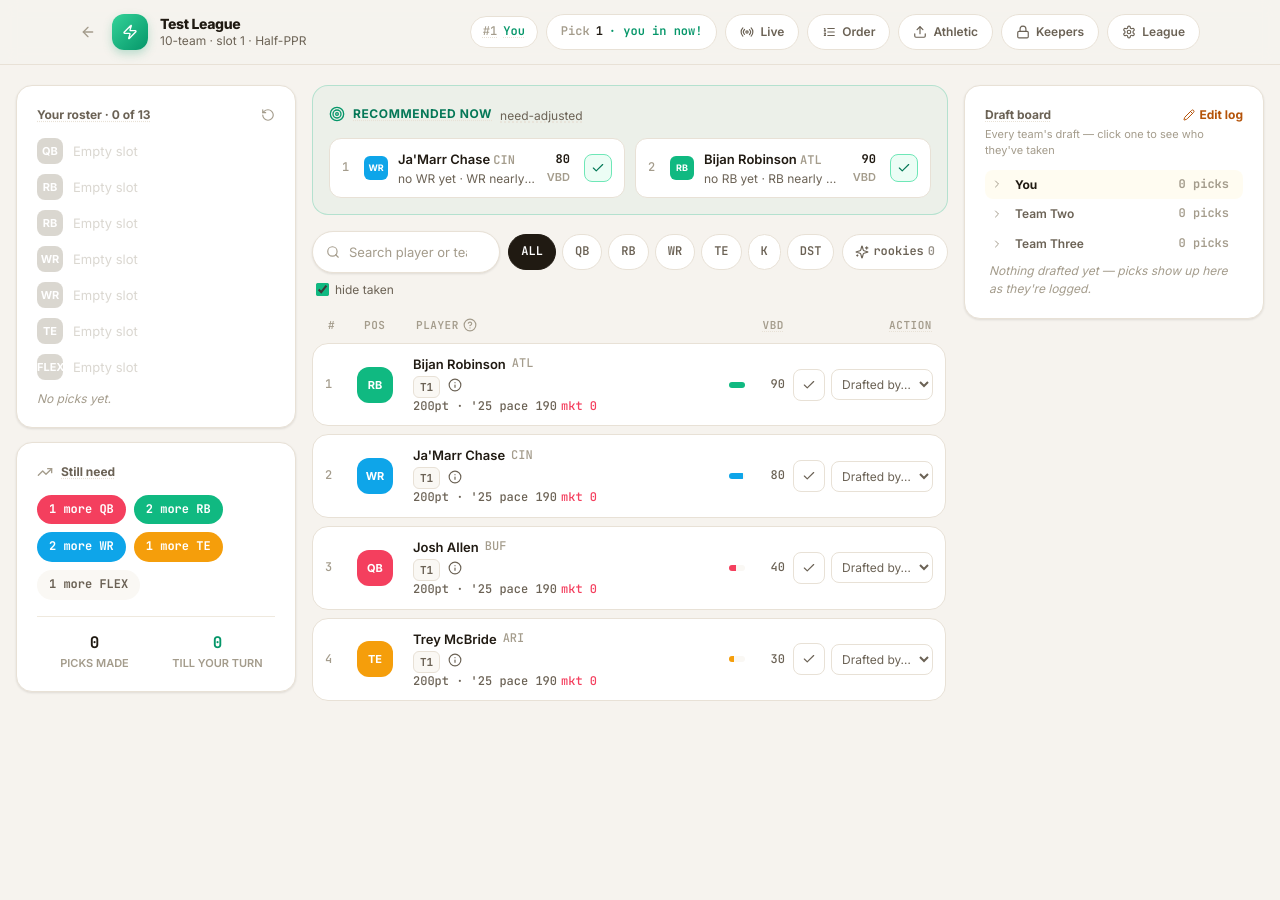
Test: SnakeRoom player board › marks the player as mine, not merely taken, once 'hide taken' is off
Click the checkbox labelled "hide taken".
click(322, 290)  # box x1=316 y1=284 x2=329 y2=296
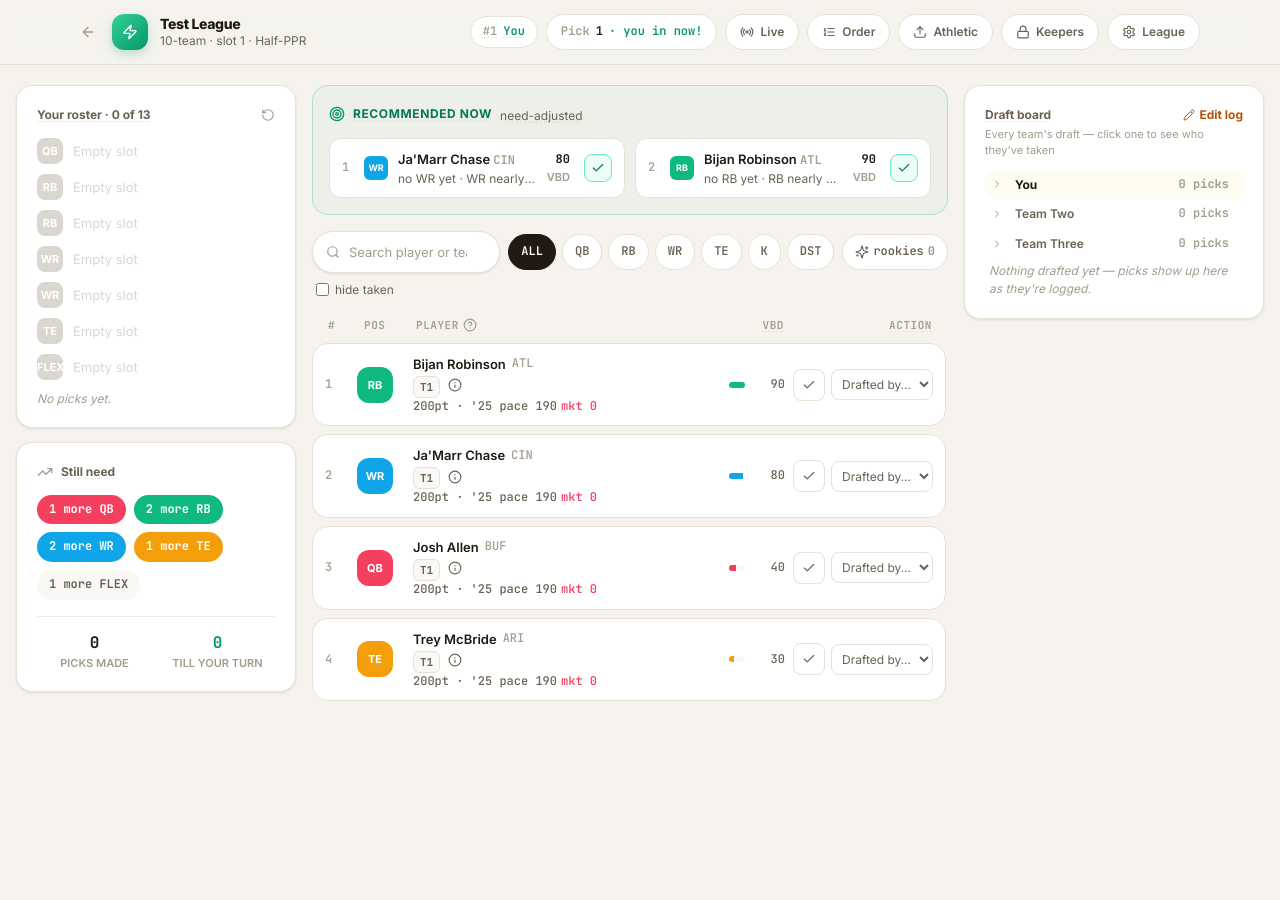
Click the 1st button titled "I drafted this player".
click(809, 385)  # box x1=793 y1=369 x2=825 y2=401
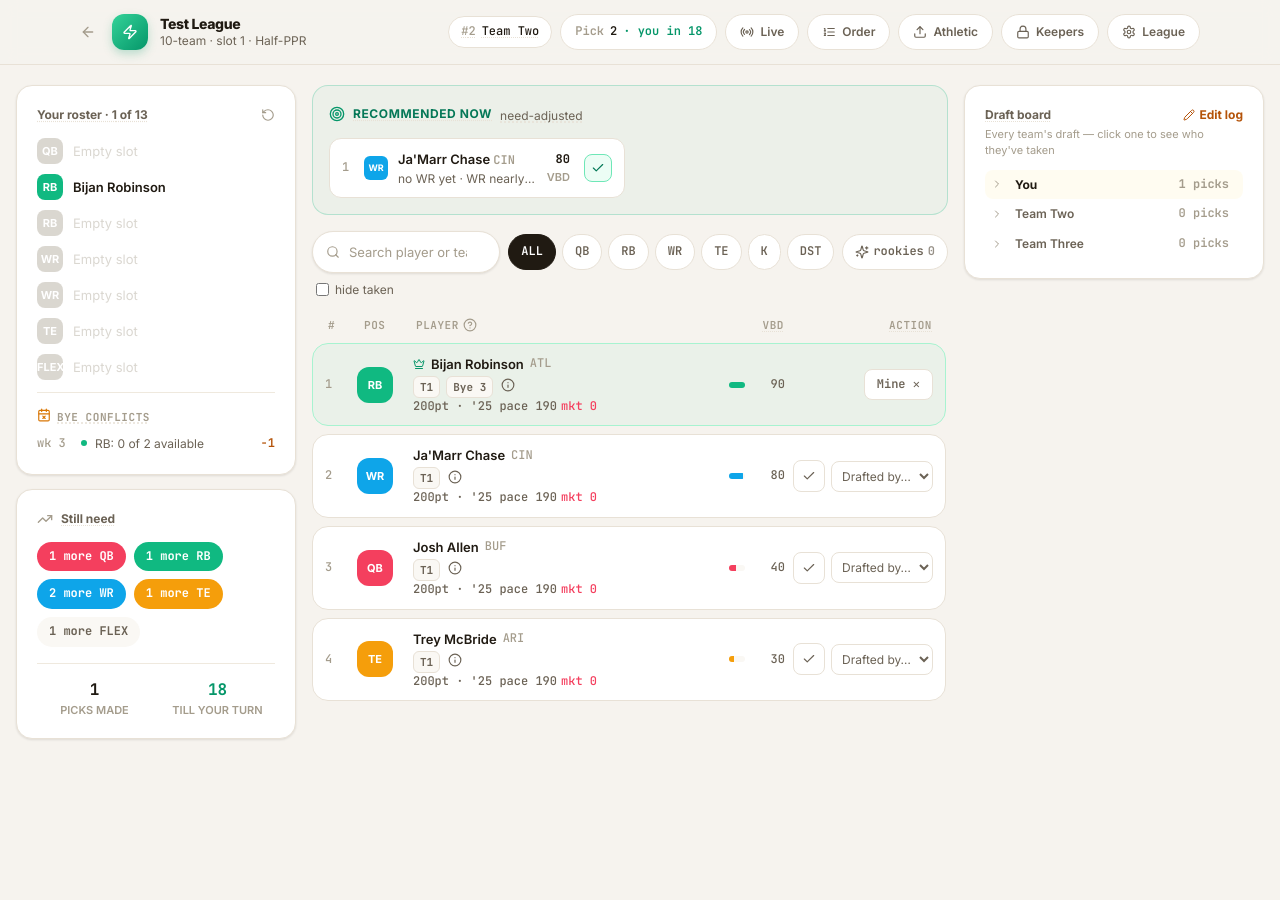
Result: the button "Mine ✕" is shown at x1=864 y1=369 x2=933 y2=400
